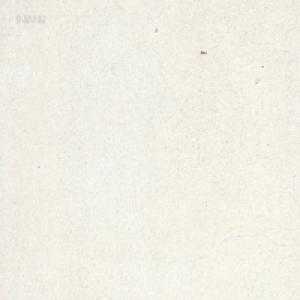Nail: (200, 49, 206, 54)
